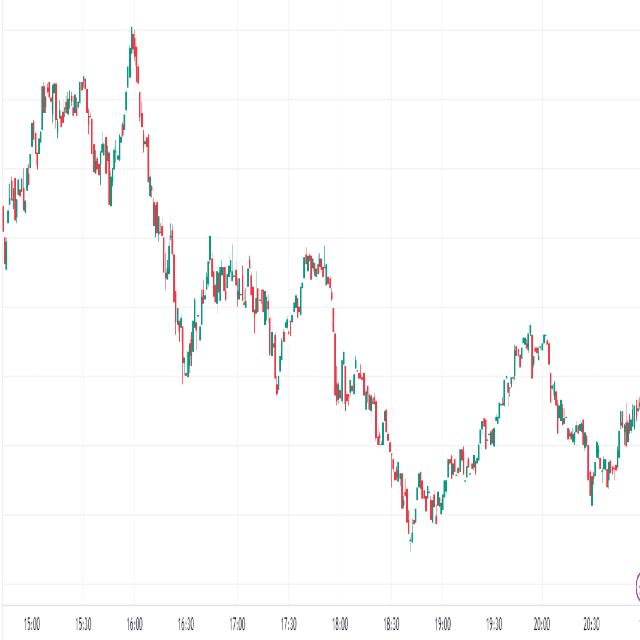Rounding-Bottom: (355, 349, 512, 561)
Rounding-Top: (187, 226, 281, 386)
